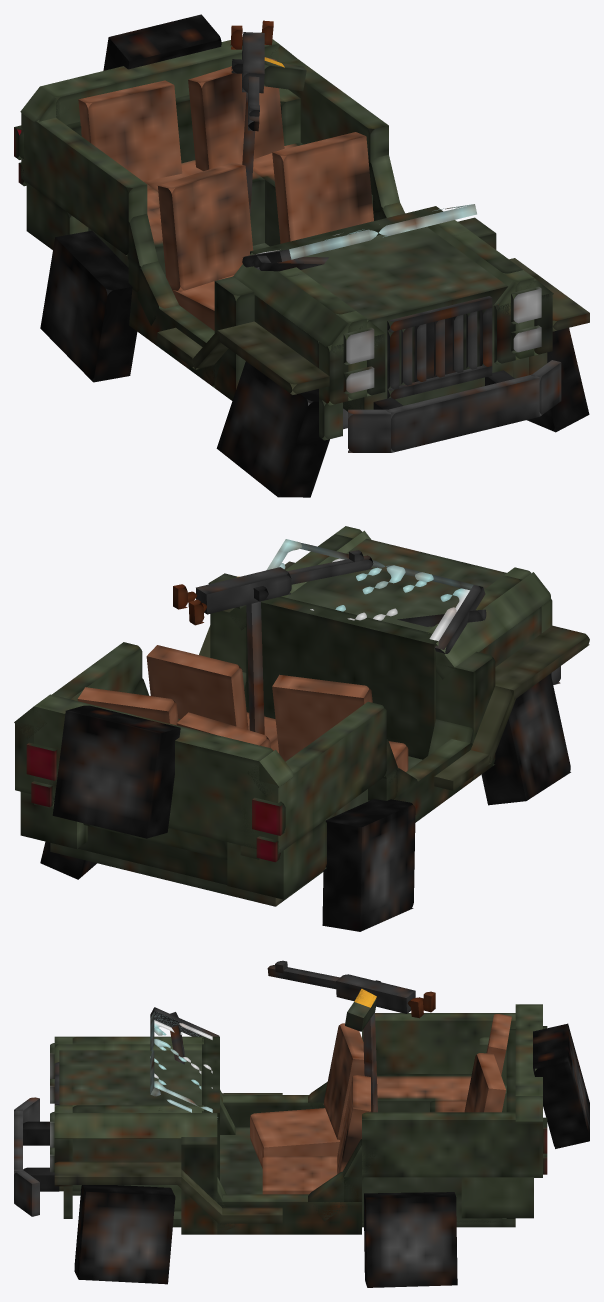
File: wreckage_military1.obj
3 renders of one model, top to bottom at view 1: azimuth 30°, elevation 25°; view 2: azimuth 150°, elevation 25°; view 3: azimuth 270°, elevation 25°, orthographic. The views are drawn at different scales.
Visible parts, largest first — view 1: nx, oo, on, oC, od, oy, oB, pd, oq, oe, oc, pD (+51 smaller); view 2: nG, pD, oe, oo, od, nx, on, oy, oC, oh, nA, oc (+29 smaller); view 3: oc, om, op, nx, od, pD, oI, nF, oD, oz, ok, oi (+36 smaller).
Part boxes in pixels (x1,y1,x2,y2): nx: (301, 226, 512, 409); oo: (40, 230, 137, 382); on: (216, 361, 329, 497); oC: (158, 162, 253, 291); od: (21, 113, 147, 255); oy: (272, 132, 373, 243); oB: (78, 80, 182, 181); pd: (386, 374, 539, 452); oq: (188, 57, 284, 170); oe: (40, 32, 278, 124); oc: (281, 59, 388, 177); pD: (103, 14, 221, 70); nG: (246, 596, 438, 759); pD: (52, 705, 180, 838); oe: (34, 694, 273, 848); oo: (322, 799, 415, 931); od: (259, 701, 386, 853); nx: (286, 538, 506, 631); on: (481, 673, 570, 805); oy: (146, 645, 248, 729); oC: (272, 674, 372, 761); oh: (227, 820, 326, 899); nA: (436, 572, 550, 679); oc: (15, 642, 142, 793); oc: (362, 1112, 542, 1177); om: (74, 1185, 175, 1284); op: (364, 1192, 457, 1287); nx: (59, 1050, 201, 1191); od: (362, 1013, 515, 1073); pD: (533, 1023, 589, 1148); oI: (217, 1194, 361, 1234); nF: (54, 1113, 217, 1138); oD: (250, 1108, 339, 1168); oz: (377, 1074, 502, 1112); ok: (173, 1127, 515, 1227); oi: (461, 1177, 533, 1218).
Size of the model in its own units: 2.18 by 1.89 by 3.98.
Materials: 1 (1 with a texture image).
